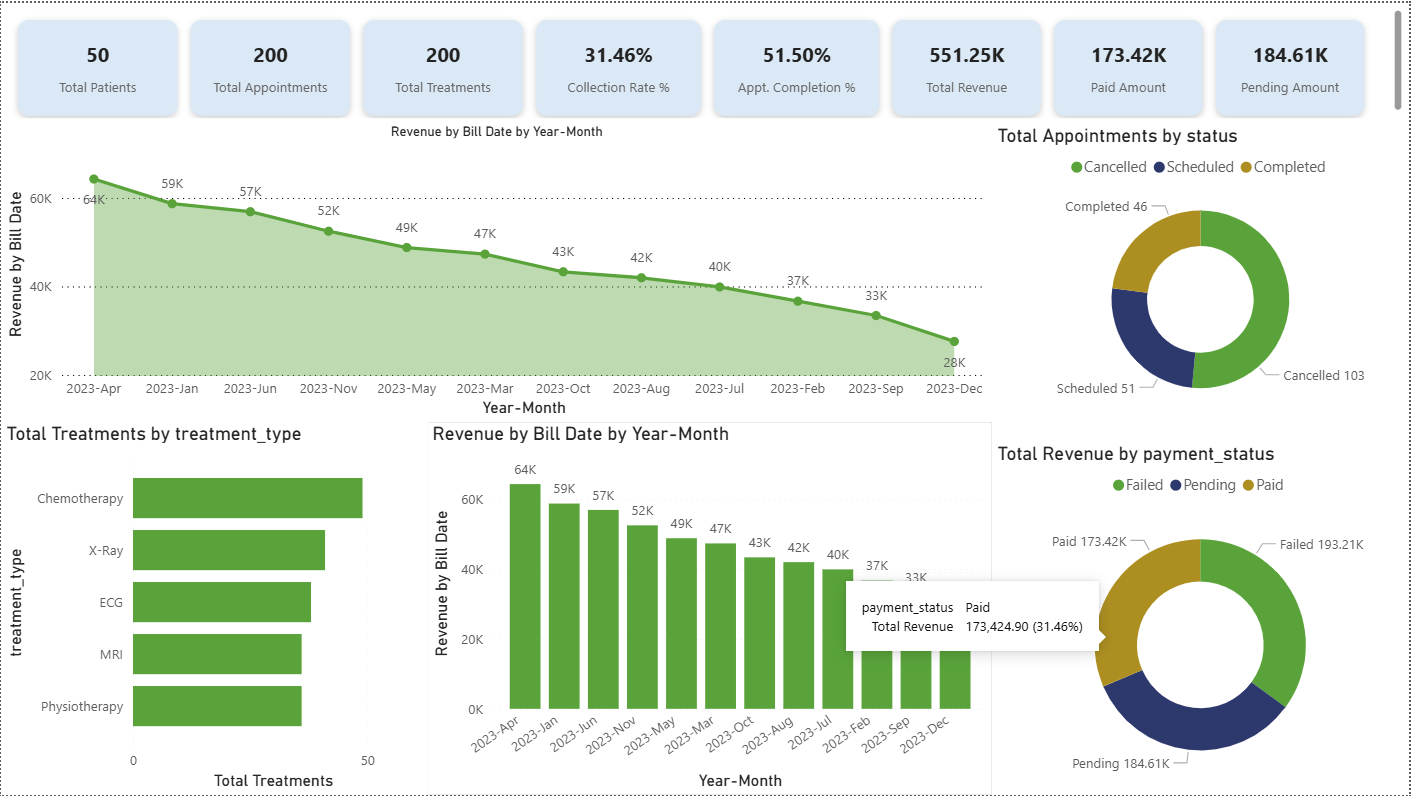

The dashboard page shown, as its layout file describes it:
{"tool":"powerbi","page":{"name":"Executive Overview","canvas":[1280,720],"ordinal":0},"visuals":[{"type":"lineChart","fields":{"Category":["DateTable.Year-Month"],"Y":["DateTable.Revenue by Bill Date"]},"box":[0,110,901.1,271.1],"z":2000},{"type":"columnChart","fields":{"Y":["DateTable.Revenue by Bill Date"],"Category":["DateTable.Year-Month"]},"box":[387.5,381.2,513.8,338.8],"z":3000},{"type":"donutChart","fields":{"Category":["billing.payment_status"],"Y":["billing.Total Revenue"]},"box":[901.2,398.8,378.8,321.2],"z":4000},{"type":"donutChart","fields":{"Category":["appointments.status"],"Y":["DateTable.Total Appointments"]},"box":[901.1,110,378.9,271.1],"z":5000},{"type":"barChart","fields":{"Category":["treatments.treatment_type"],"Y":["DateTable.Total Treatments"]},"box":[0,381.2,387.5,338.8],"z":6000},{"type":"htmlContent443BE3AD55E043BF878BED274D3A6855","fields":{"content":["DateTable.Dynamic Card HTML"]},"box":[0,0,1280,110],"z":7002}]}

Visuals, with their boxes in screenshot pixels (x1, y1, x2, y2), scaled from the page's 1280x720 canvas onto the 1411x796 screenshot:
lineChart - DateTable.Year-Month x DateTable.Revenue by Bill Date: [left=0, top=122, right=993, bottom=421]
columnChart - DateTable.Revenue by Bill Date x DateTable.Year-Month: [left=427, top=421, right=994, bottom=795]
donutChart - billing.payment_status x billing.Total Revenue: [left=993, top=441, right=1410, bottom=795]
donutChart - appointments.status x DateTable.Total Appointments: [left=993, top=122, right=1410, bottom=421]
barChart - treatments.treatment_type x DateTable.Total Treatments: [left=0, top=421, right=427, bottom=795]
htmlContent443BE3AD55E043BF878BED274D3A6855 - DateTable.Dynamic Card HTML: [left=0, top=0, right=1410, bottom=122]
